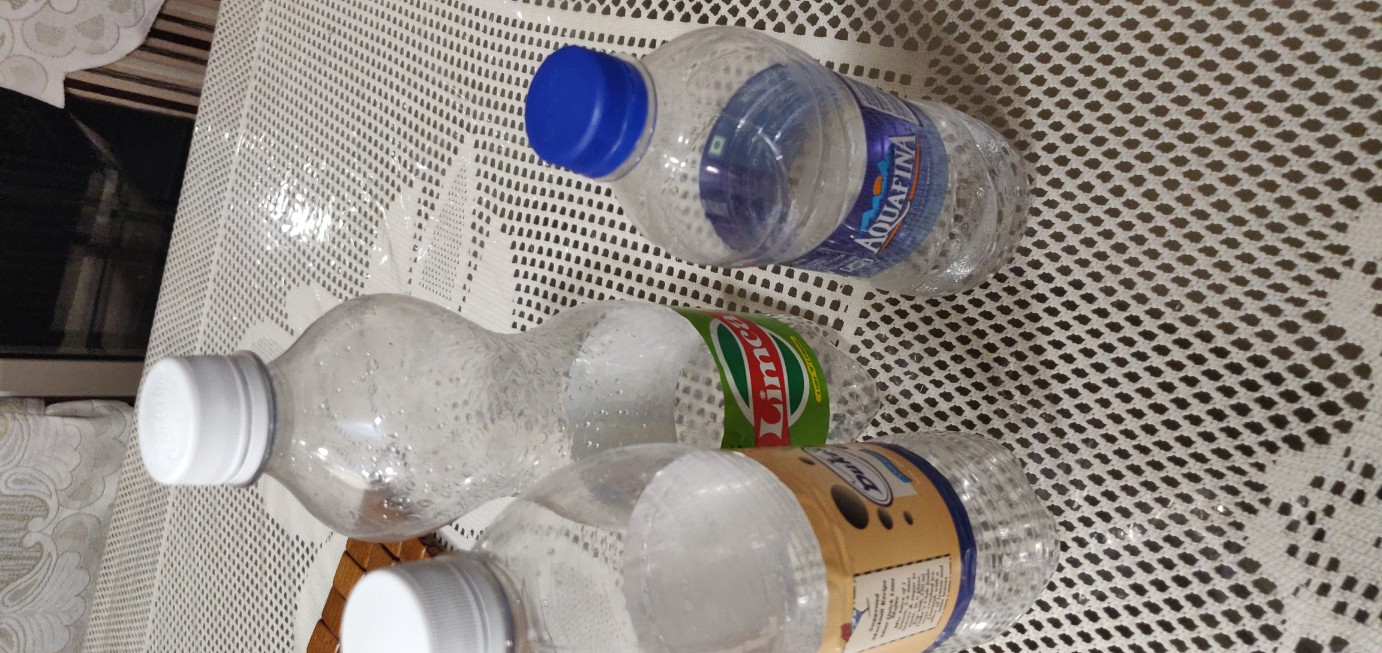Electronics: (115, 276, 920, 569), (285, 420, 1076, 653), (506, 15, 1058, 326)
